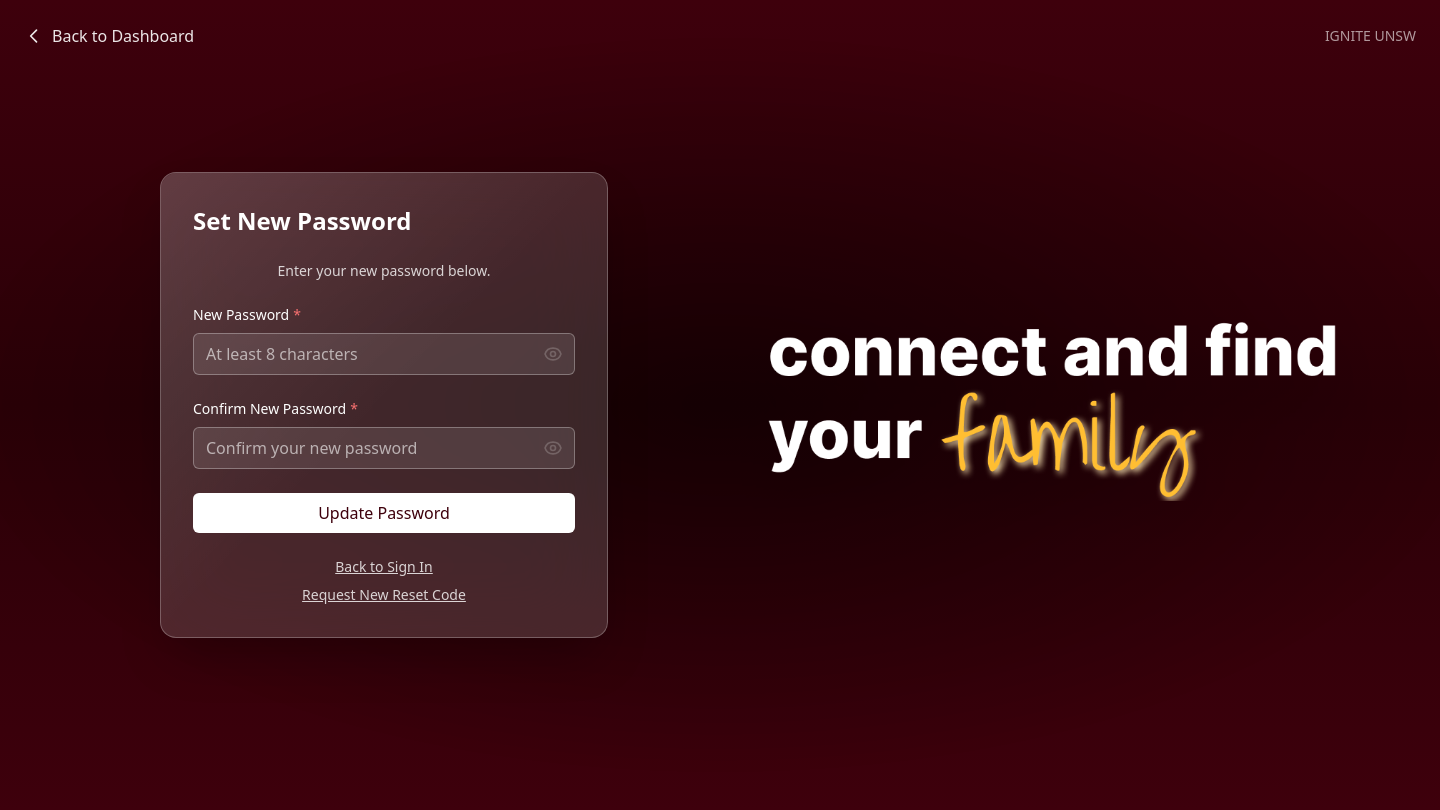
Scenario: ResetPassword › handles invalid reset session token error
The image size is (1440, 810).
In the password field labelled "New Password*": (384, 354) top-left (193, 333), bottom-right (575, 375), type "newpassword123"
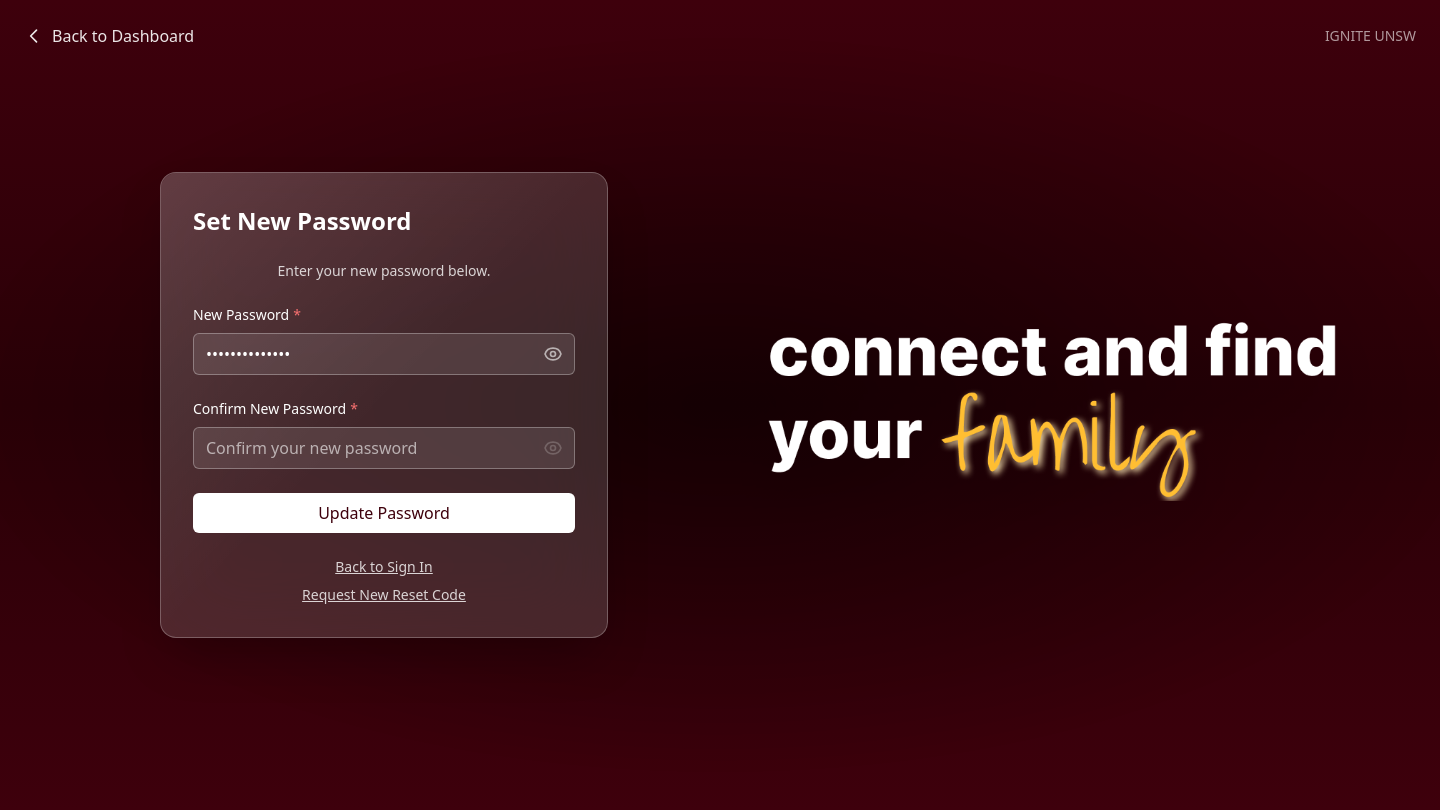
In the password field labelled "Confirm New Password*": (384, 448) top-left (193, 427), bottom-right (575, 469), type "newpassword123"
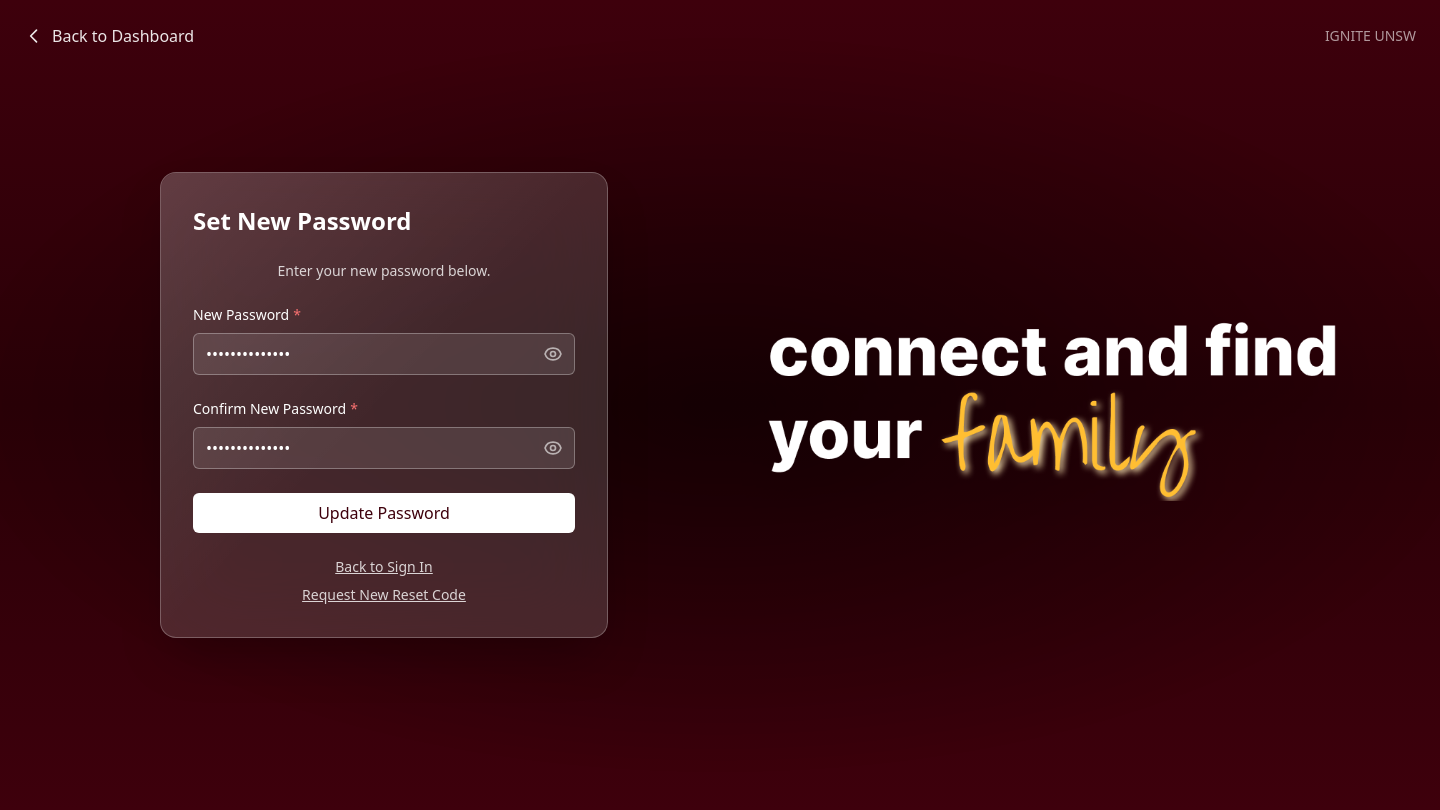
Click the button "Update Password": (384, 513) top-left (193, 493), bottom-right (575, 533)
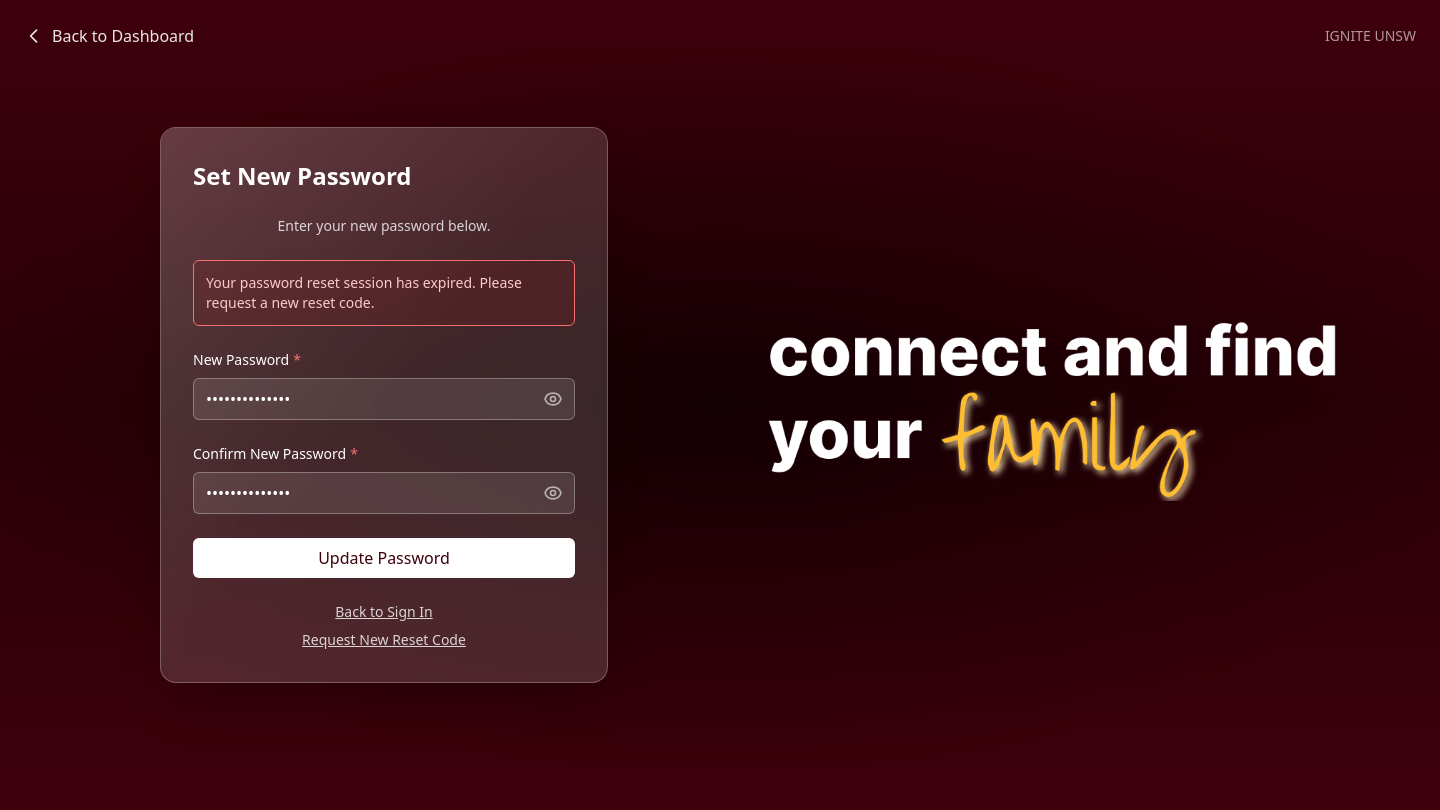
Result: the text "Your password reset session has expired. Please request a new reset code." is shown at top-left (193, 260), bottom-right (575, 326)
